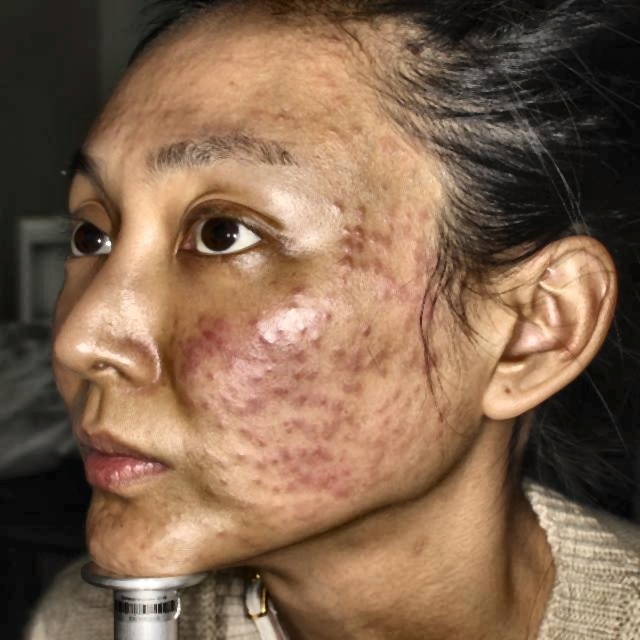nodule: (207, 309, 241, 343), (256, 324, 288, 358), (238, 419, 267, 456), (276, 475, 301, 513), (309, 462, 338, 493), (290, 364, 322, 390), (369, 351, 395, 383), (313, 429, 339, 461), (257, 363, 286, 391), (268, 438, 295, 468), (212, 384, 243, 410), (348, 220, 374, 250), (339, 354, 363, 386), (287, 436, 314, 464), (194, 310, 220, 339), (302, 330, 328, 357), (370, 231, 398, 256), (403, 377, 432, 401), (405, 238, 429, 266), (416, 348, 440, 376), (330, 484, 352, 514), (280, 418, 312, 437), (334, 231, 358, 256), (200, 337, 224, 362), (373, 391, 395, 416), (431, 401, 454, 424), (243, 312, 269, 332), (424, 289, 443, 316), (211, 414, 235, 435), (378, 288, 402, 309), (415, 206, 439, 227), (202, 366, 227, 386), (178, 359, 204, 378), (384, 382, 406, 404), (291, 347, 314, 368), (328, 344, 352, 364), (358, 321, 380, 342), (287, 392, 306, 416), (331, 403, 349, 428), (248, 476, 273, 494), (346, 342, 371, 360), (239, 534, 265, 551), (314, 385, 334, 407), (198, 397, 220, 417), (200, 484, 224, 502), (353, 206, 377, 224), (284, 460, 308, 478), (406, 286, 426, 307), (232, 364, 254, 383), (331, 199, 351, 219), (398, 210, 418, 229), (341, 251, 356, 276), (338, 464, 360, 481), (240, 400, 264, 415), (228, 448, 252, 463), (217, 475, 238, 492), (371, 255, 386, 278), (322, 207, 341, 225), (289, 314, 306, 334), (255, 454, 272, 473), (385, 222, 405, 238), (286, 289, 303, 306), (386, 273, 401, 292), (316, 309, 334, 324), (210, 524, 228, 538)
